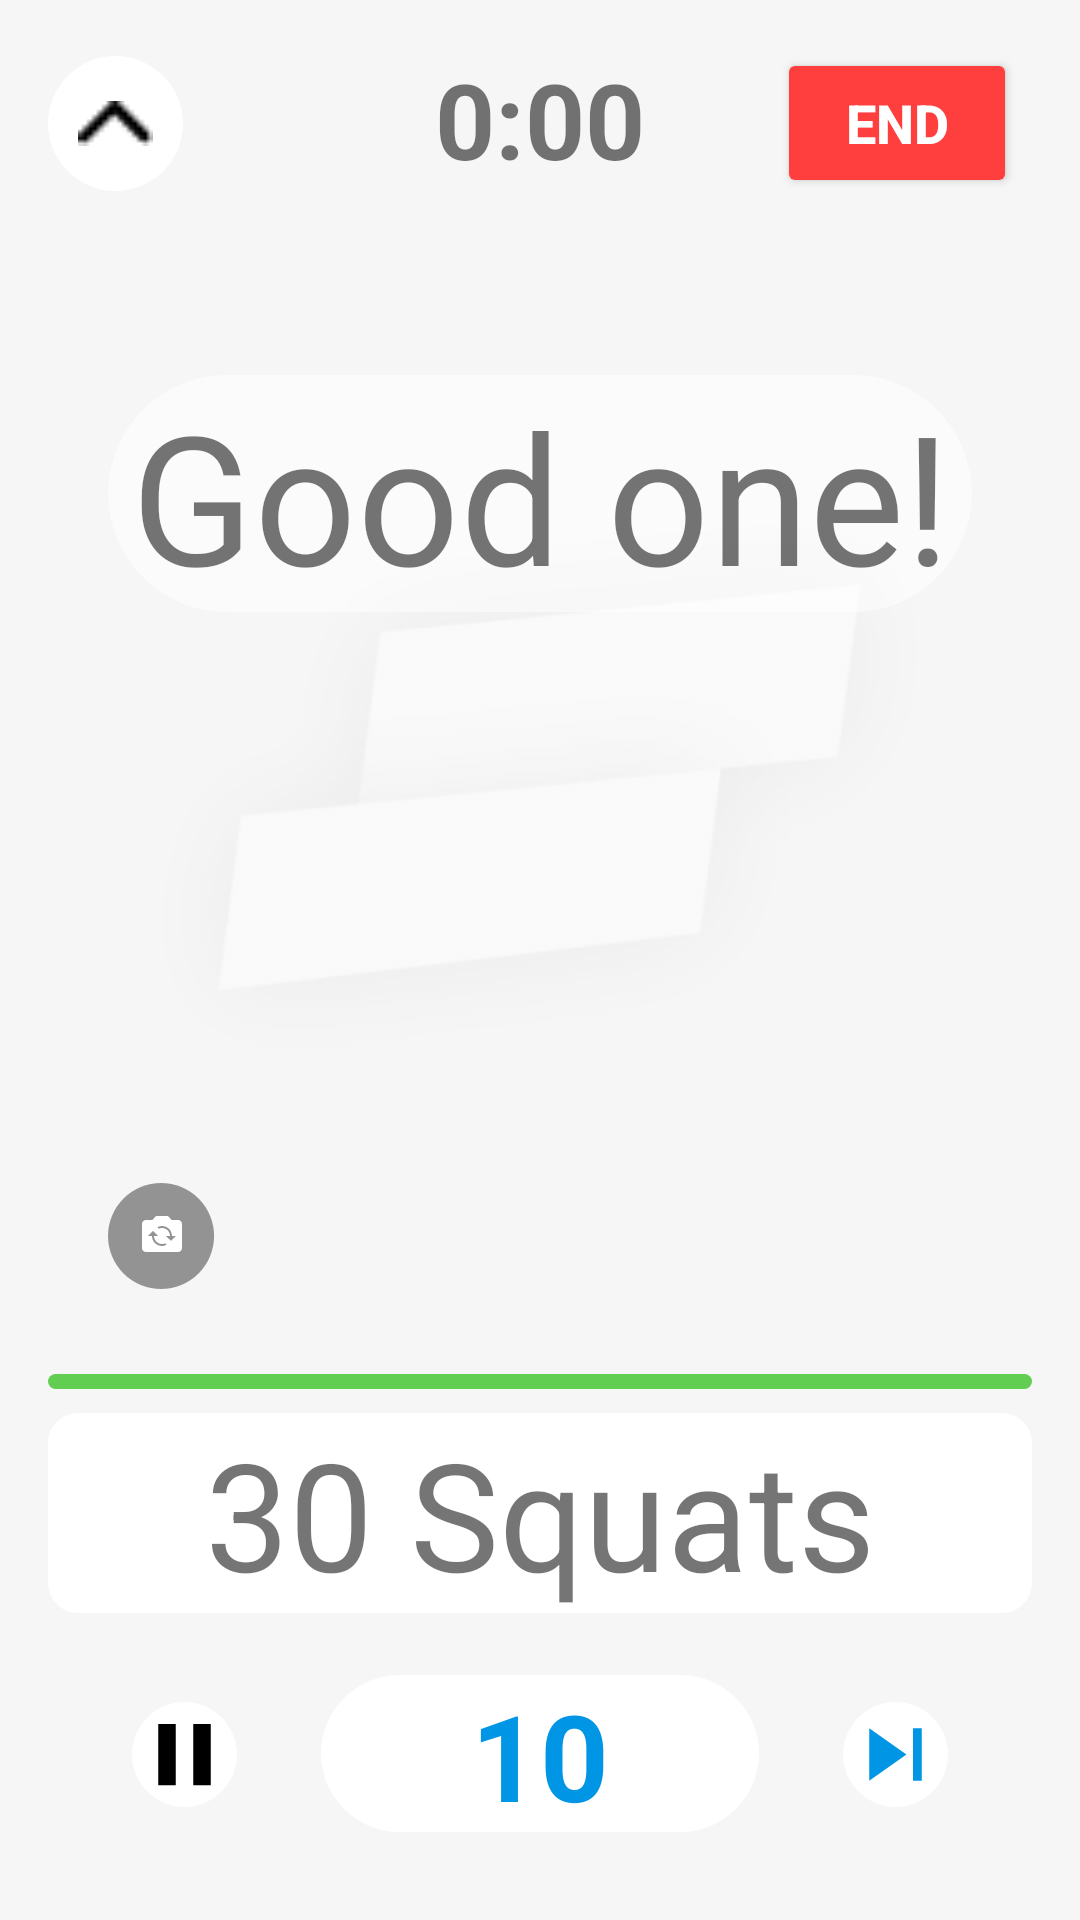

Locate icon controls on the screen. Image size 1080 x 1920, boxes as bbox=[x1, y1, x2, y2].
next drill: bbox=[869, 1728, 922, 1781]
pause: bbox=[158, 1724, 211, 1786]
